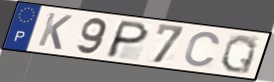7: (153, 22, 186, 66)
9: (75, 16, 109, 56)
C: (182, 31, 223, 69)
K: (35, 11, 75, 52)
P: (103, 19, 152, 60)
Q: (218, 34, 259, 76)
